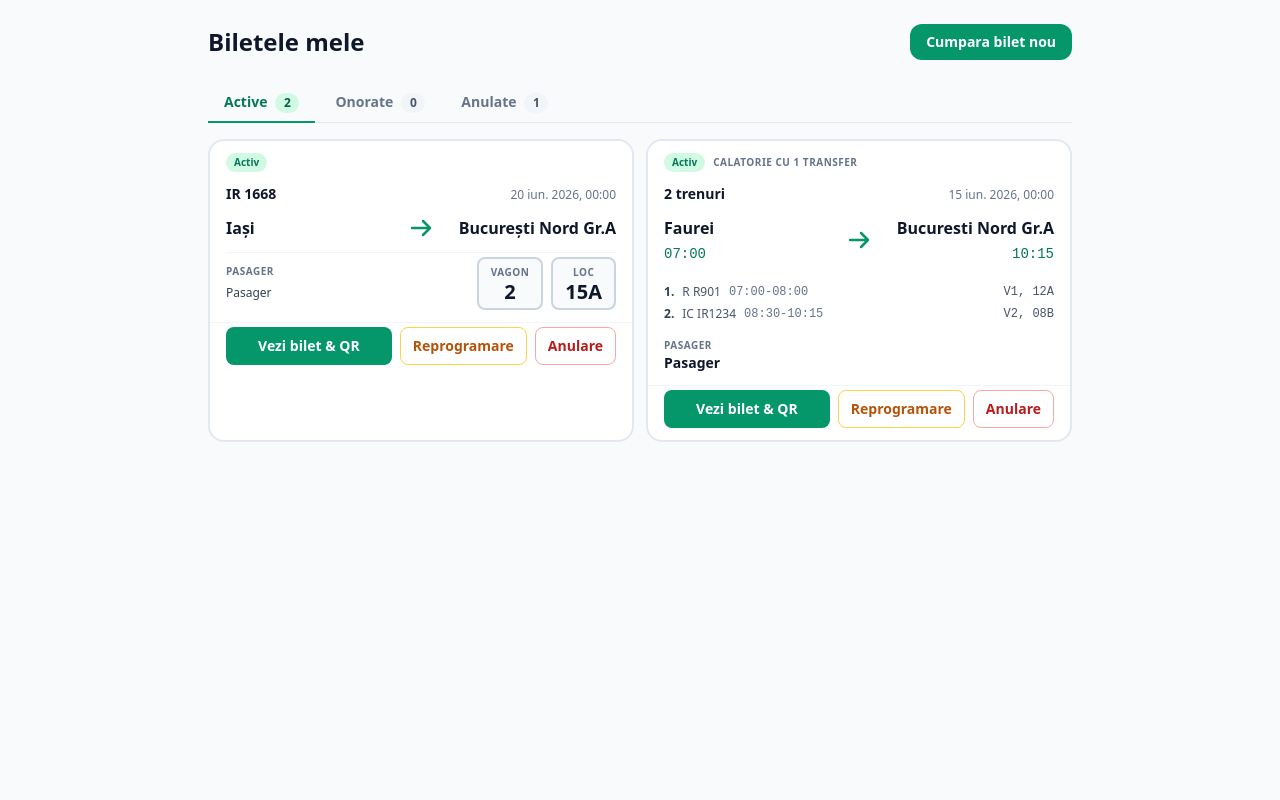
it: MyTickets › afiseaza pretul total al calatoriei in modalul Boarding Pass
Expected: the text "2 trenuri" is shown, top-left (664, 184), bottom-right (725, 204)
Click the button "Vezi bilet & QR" below "CALATORIE CU": click(747, 409) top-left (664, 390), bottom-right (830, 428)
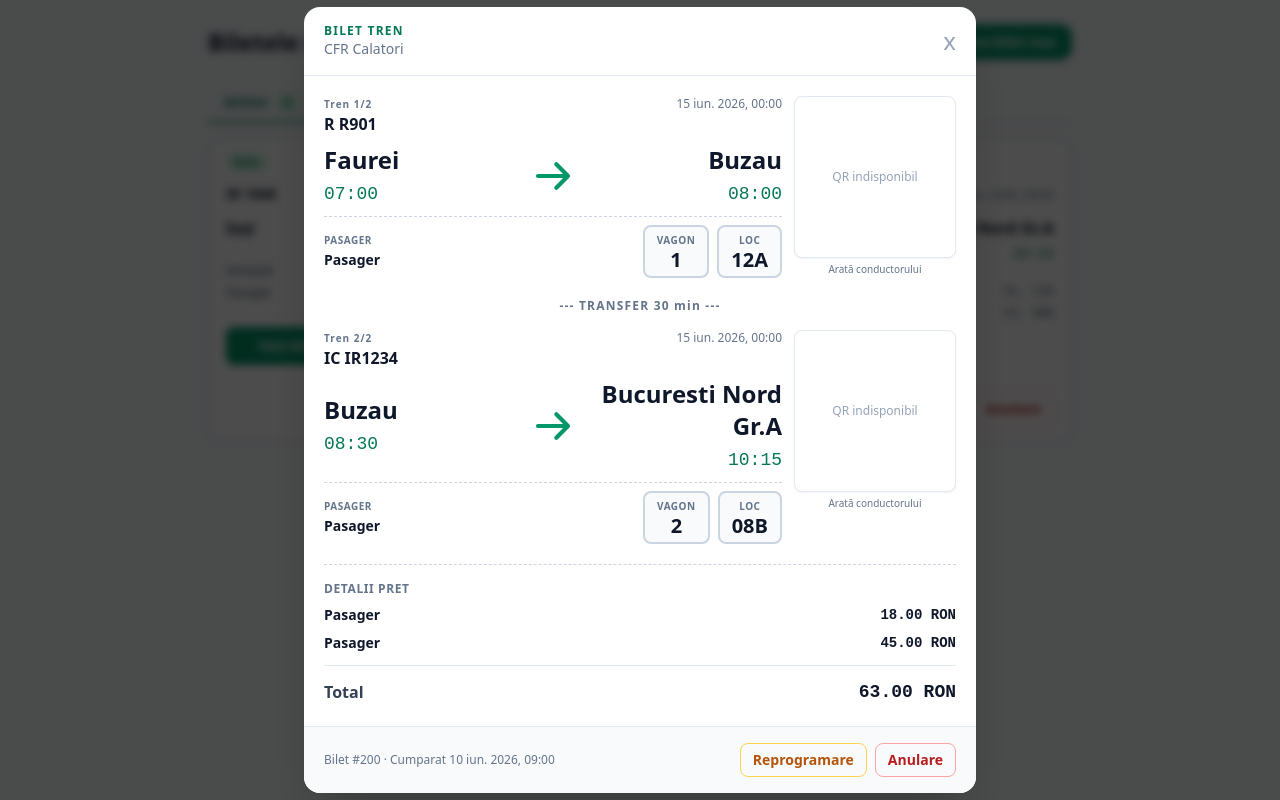
Expected: the text "Total" is shown, top-left (324, 680), bottom-right (364, 704)
Expected: the text "63.00 RON" is shown, top-left (859, 678), bottom-right (956, 706)
